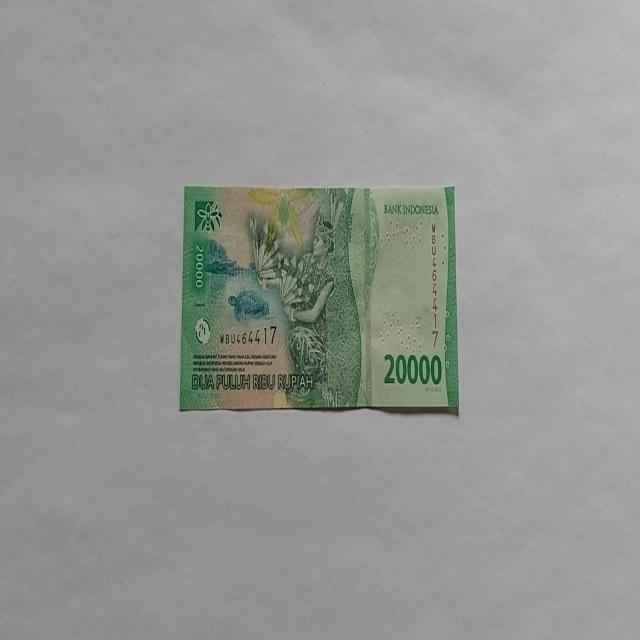dua puluh ribu rupiah: (178, 182, 460, 415)
